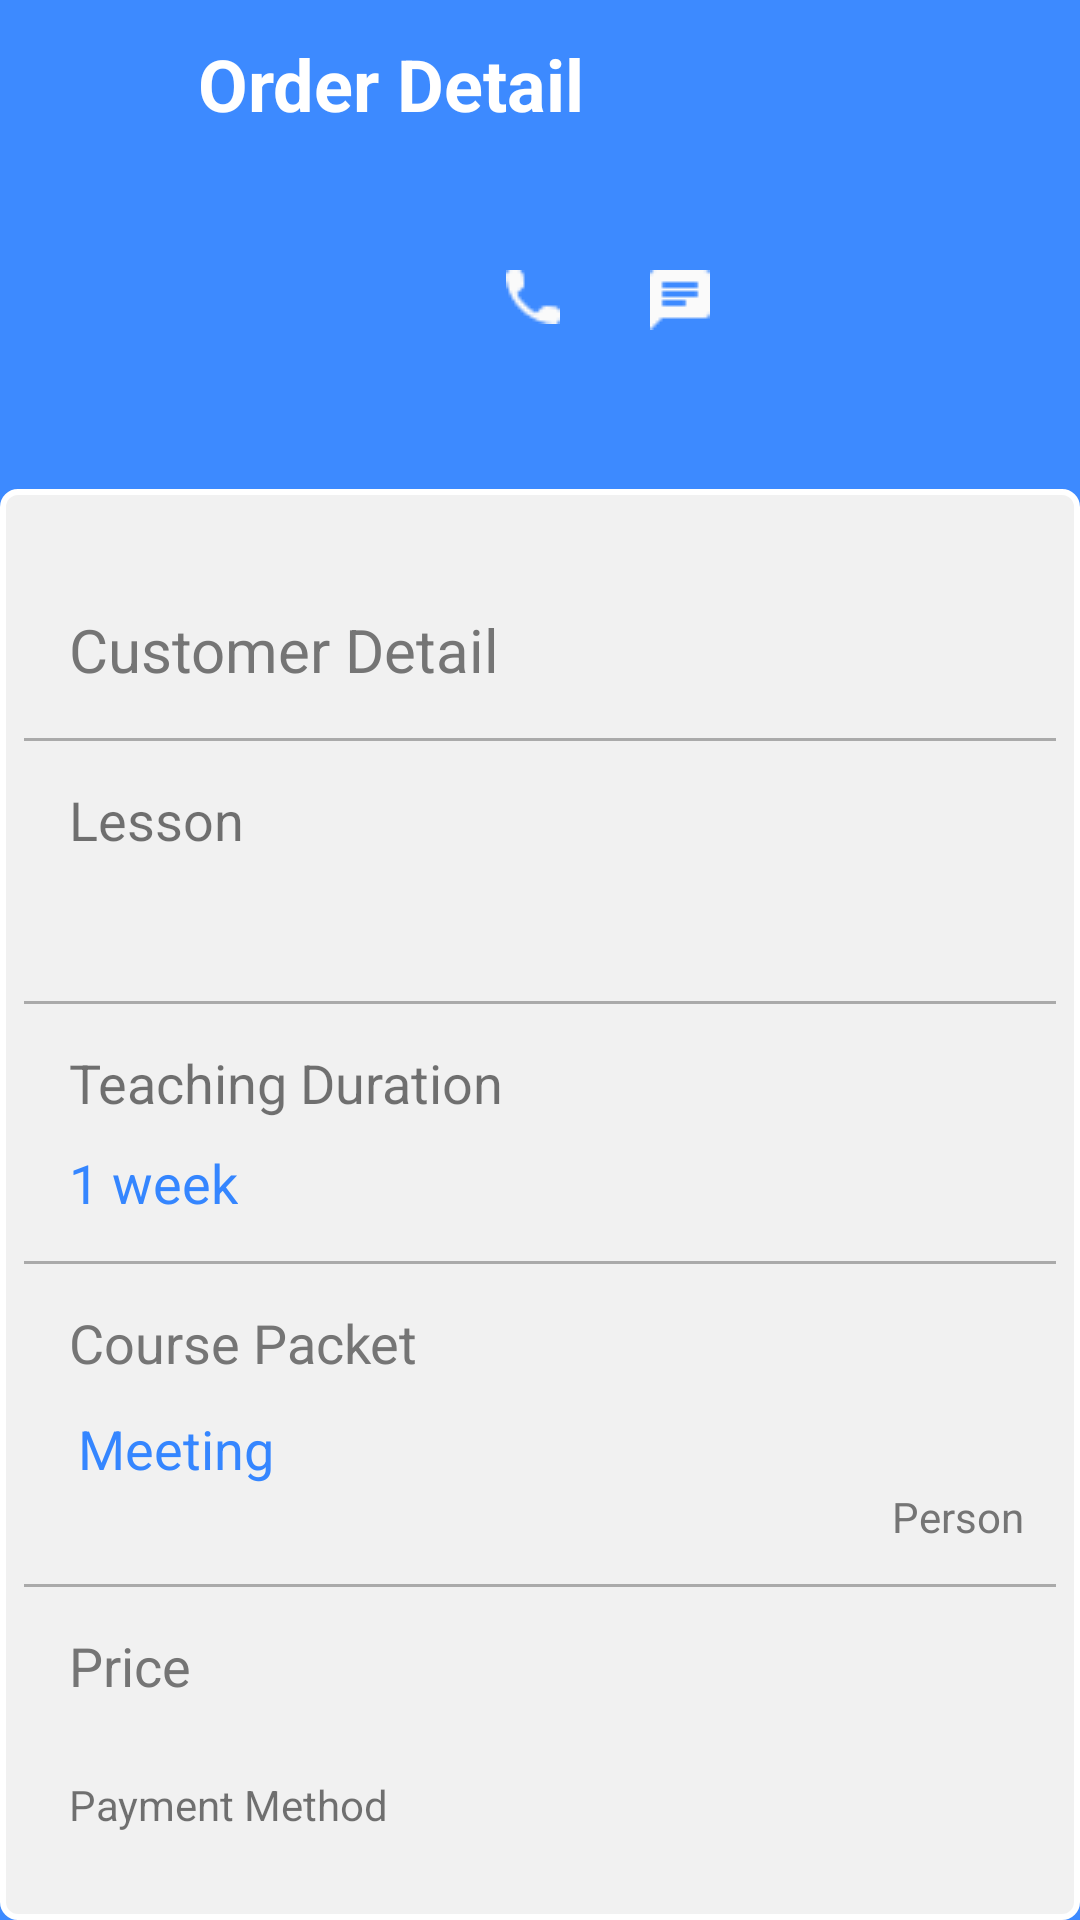

Named icons in this screenshot (1080px x 1920px) and their bounding boxes, (x1, y1, x2, y2):
callorder: (506, 270, 560, 324)
chatorder: (650, 270, 710, 330)
